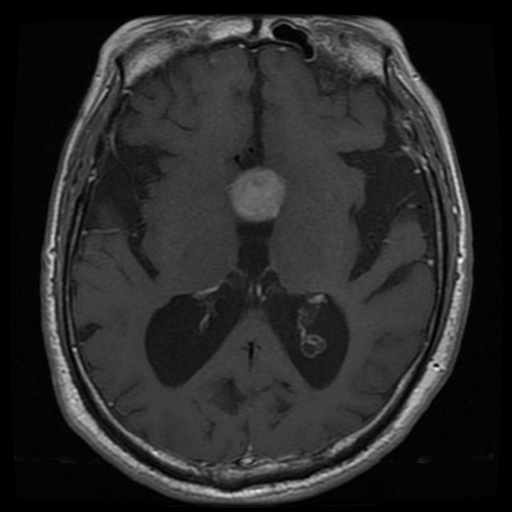pituitary: (228, 165, 286, 222)
